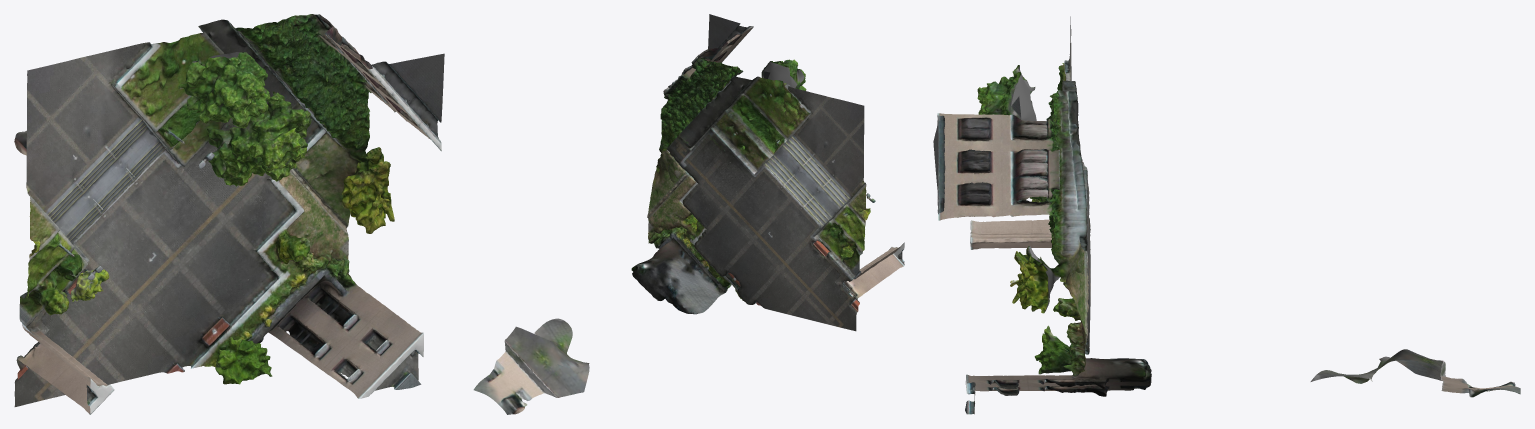
The model's file is Tile_+007_+012.fbx.
3 renders of one model, left to right at view 1: azimuth 30°, elevation 25°; view 2: azimuth 150°, elevation 25°; view 3: azimuth 270°, elevation 25°, orthographic. The views are drawn at different scales.
Visible parts, largest first — view 1: DefaultName; view 2: DefaultName; view 3: DefaultName.
Boxes of the visible parts, box(x1,y1,x2,y2) form: DefaultName: box(14, 14, 444, 414); DefaultName: box(473, 14, 904, 414); DefaultName: box(933, 16, 1520, 414).
Size of the model in its own units: 22.54 by 22.54 by 43.86.
